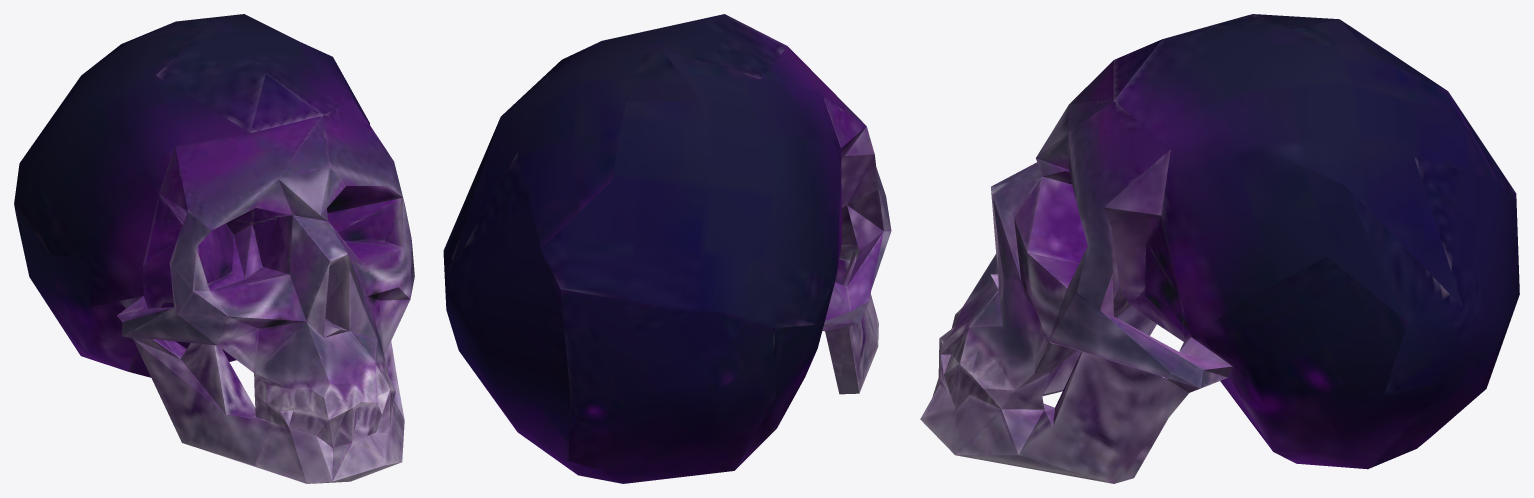
File: skull.glb
3 renders of one model, left to right at view 1: azimuth 30°, elevation 25°; view 2: azimuth 150°, elevation 25°; view 3: azimuth 270°, elevation 25°, orthographic. The views are drawn at different scales.
Size of the model in its own units: 1.25 by 1.39 by 1.89.
1 material, 1 textured.
